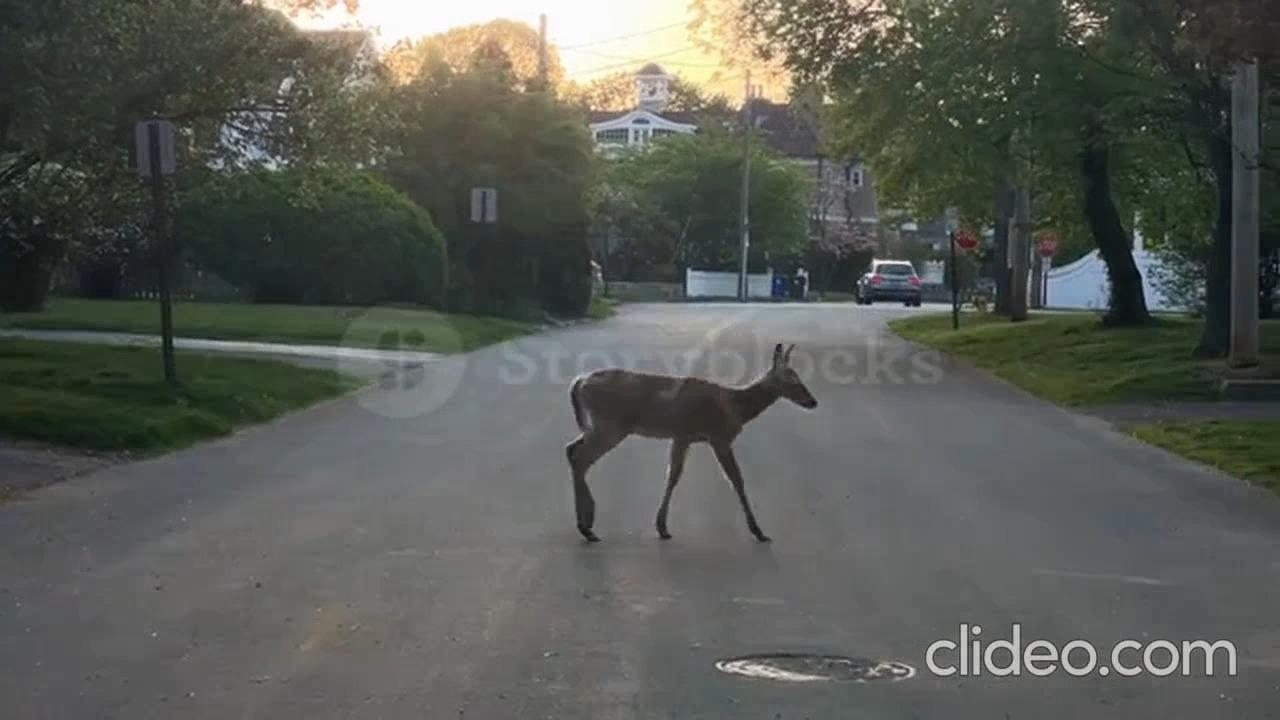deer: (557, 337, 816, 565)
